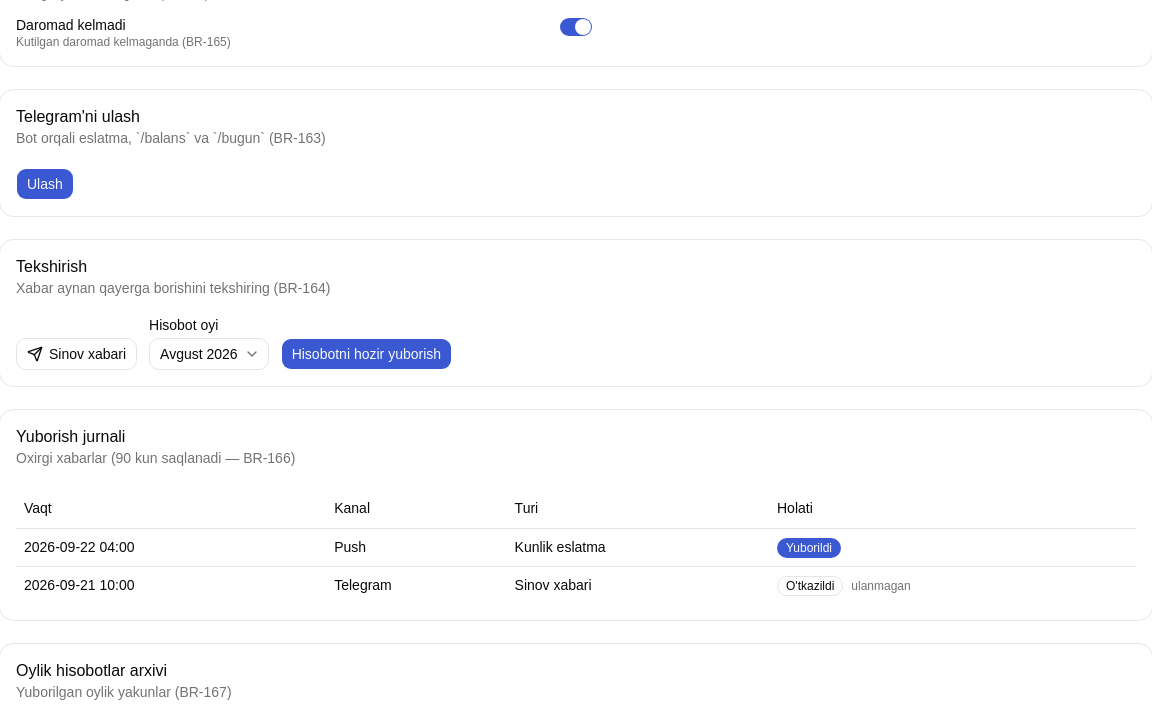
Scenario: NotificationsPage (E25-T06) › hisobotni hozir yuborish — tanlangan oy va yakun
(page scrolled)
Click the button "Hisobotni hozir yuborish".
click(366, 354)  # box 281,338 -> 452,370
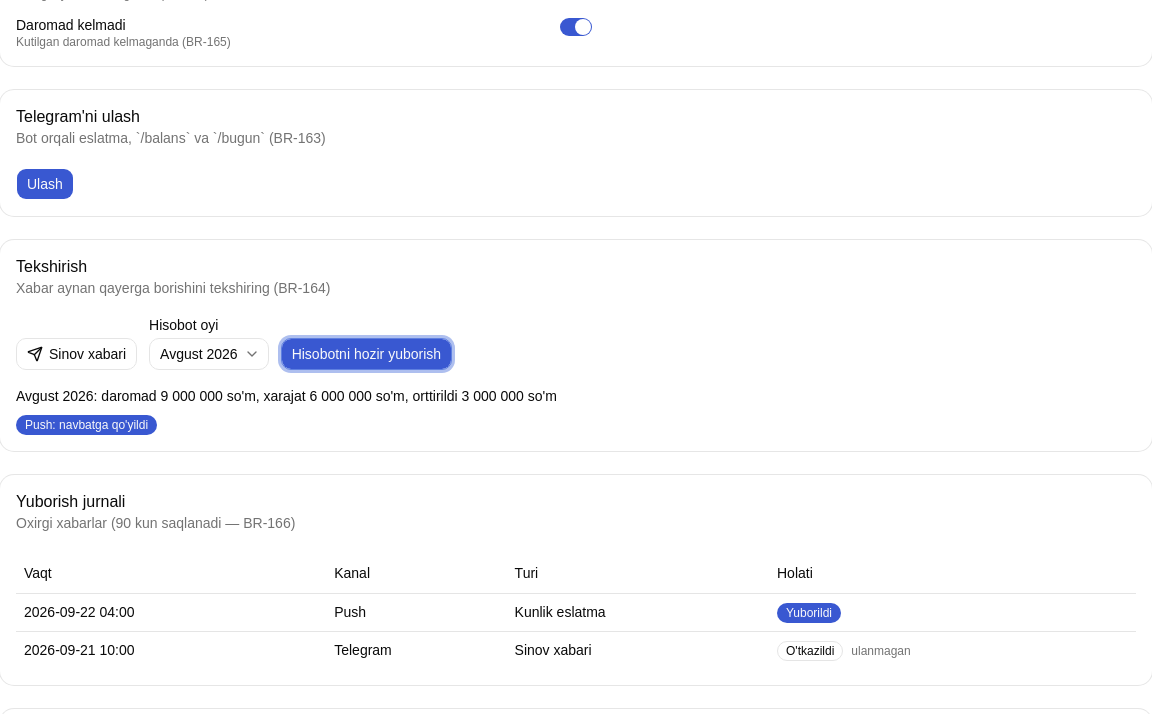
Check: the text "Avgust 2026: daromad 9 000 000 so'm, xarajat 6 000 000 so'm" is shown, box 16,388 -> 557,404
